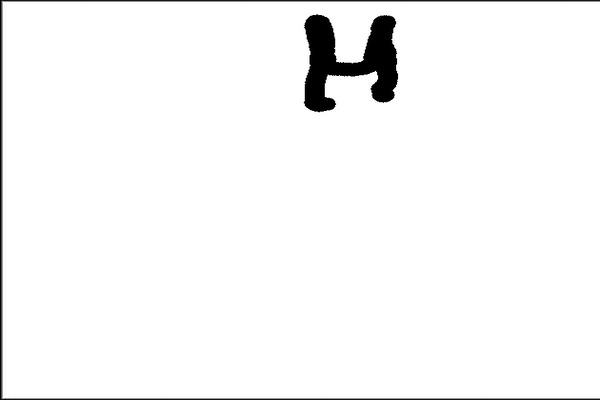H: (293, 7, 407, 114)
